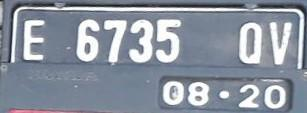3: (121, 18, 153, 64)
5: (149, 16, 189, 66)
6: (71, 20, 107, 63)
7: (100, 18, 128, 66)
E: (14, 20, 55, 63)
Q: (232, 19, 264, 66)
V: (266, 20, 296, 70)
